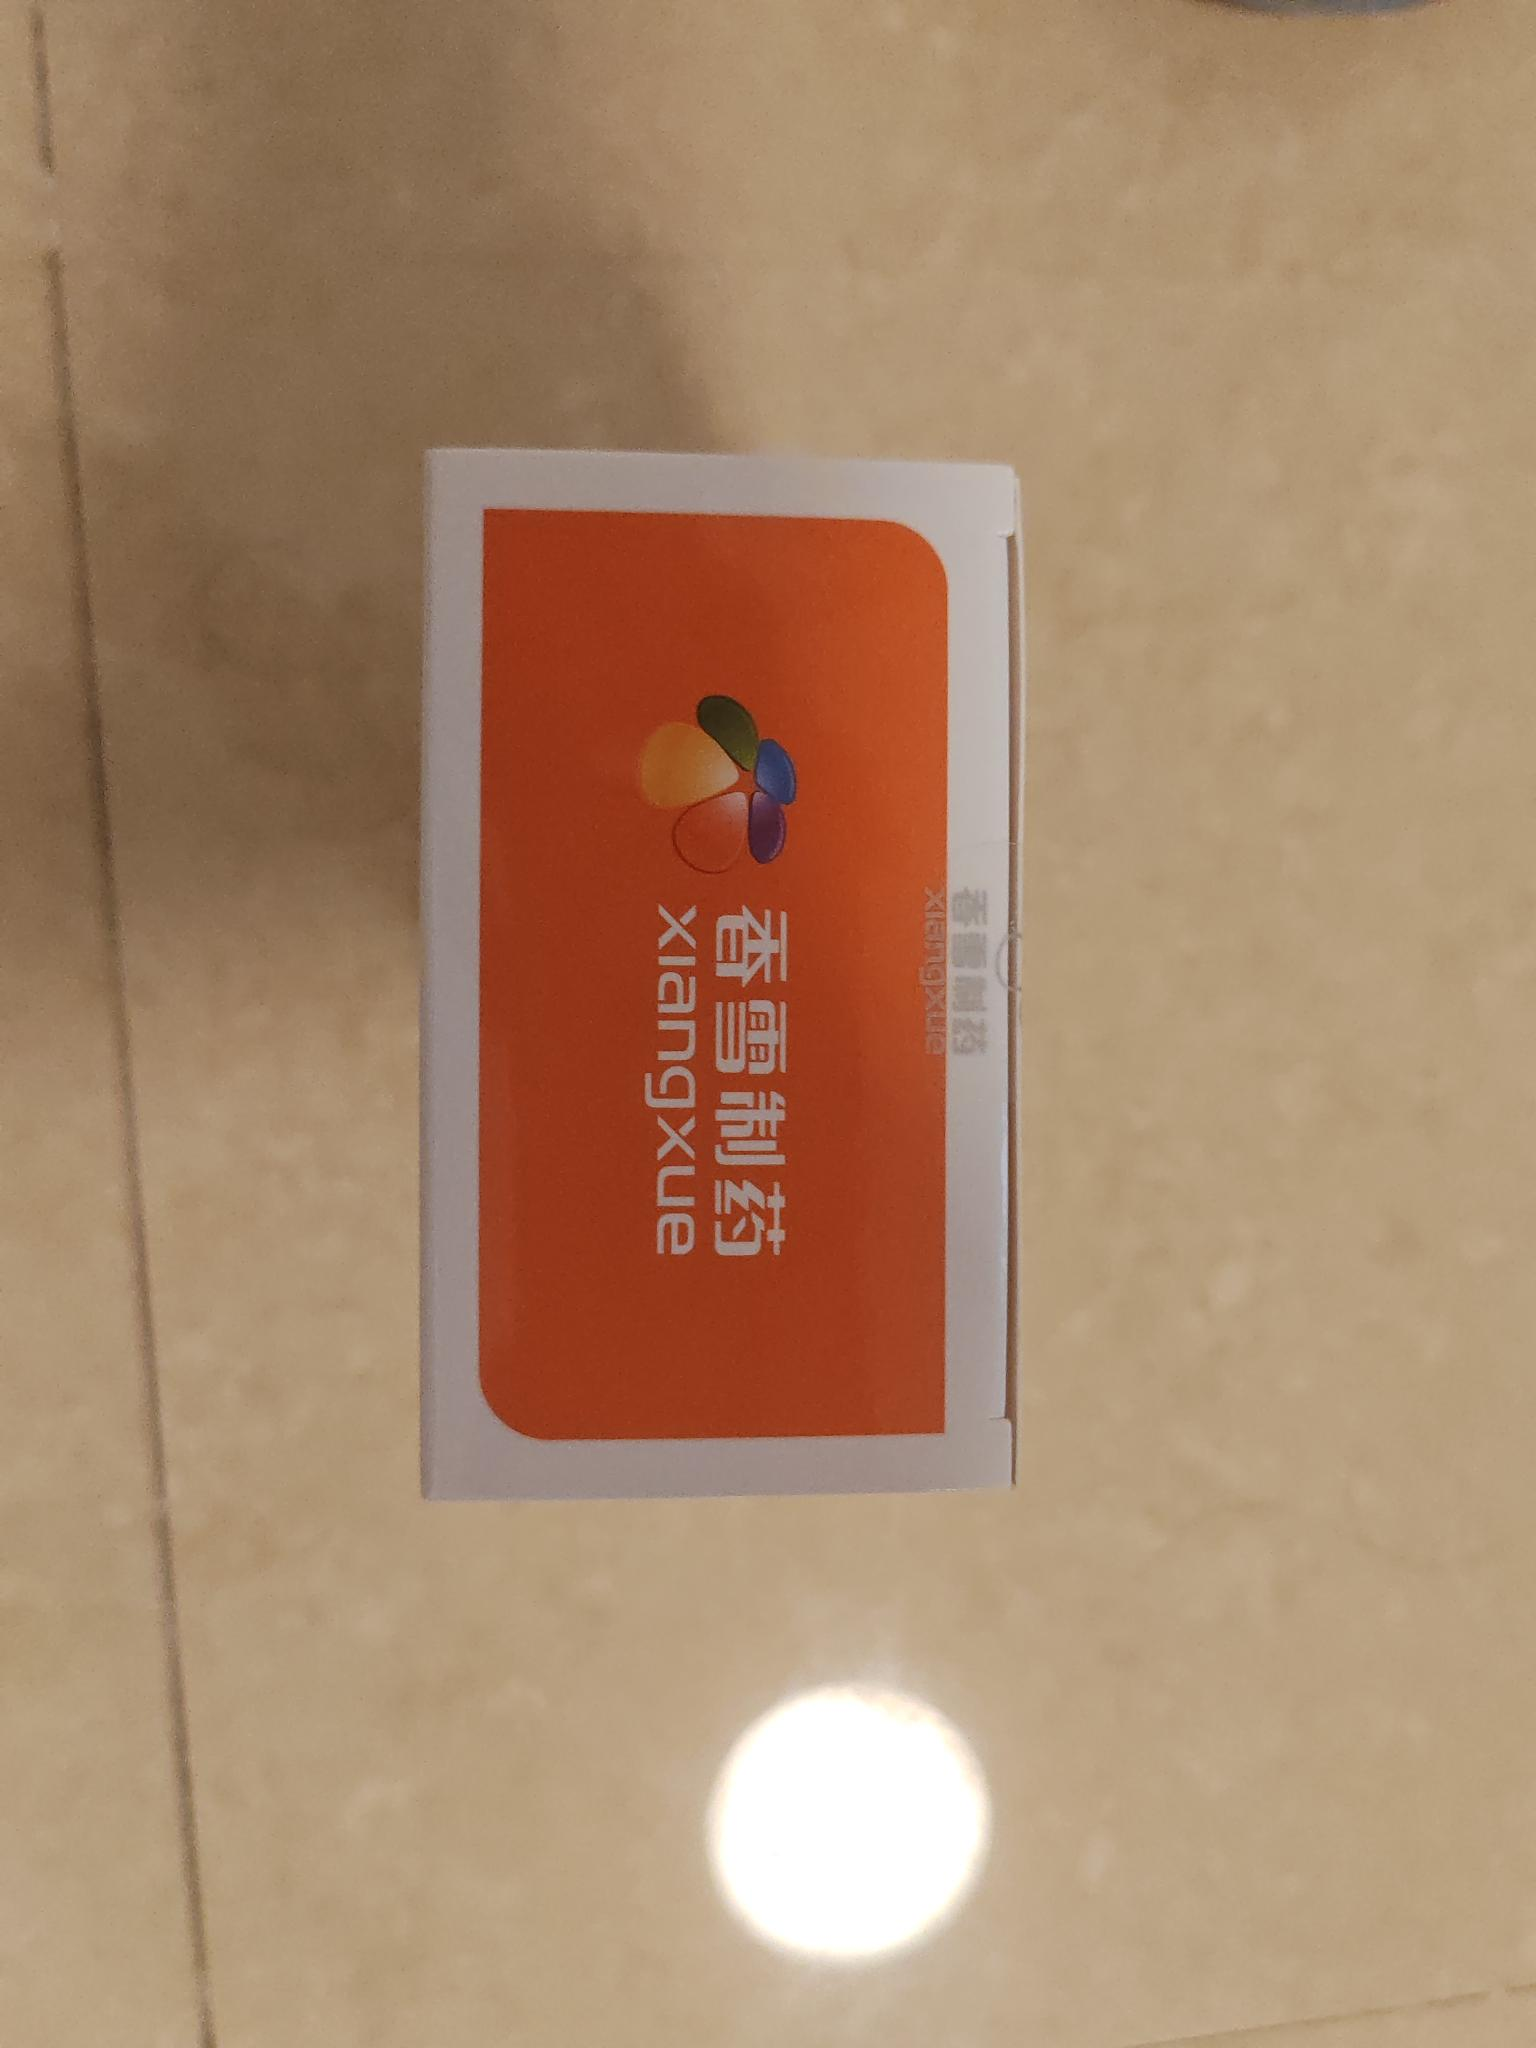Medicine1: (382, 421, 1057, 1537)
